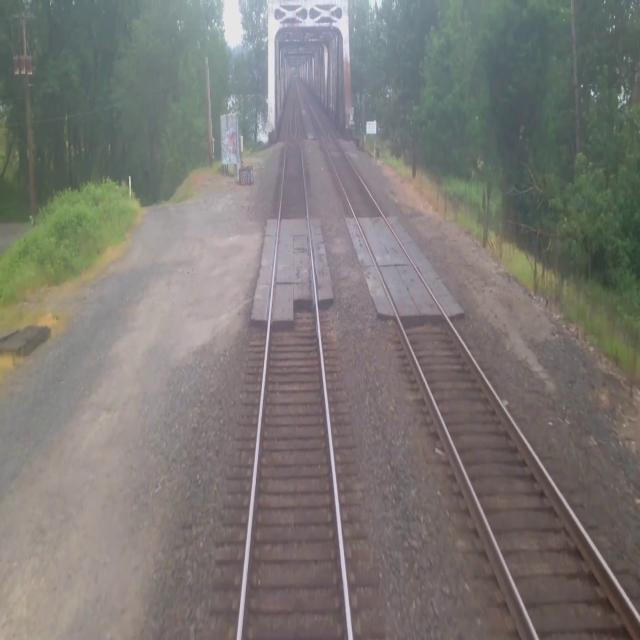rail-track: (299, 82, 640, 639), (240, 82, 348, 639)
